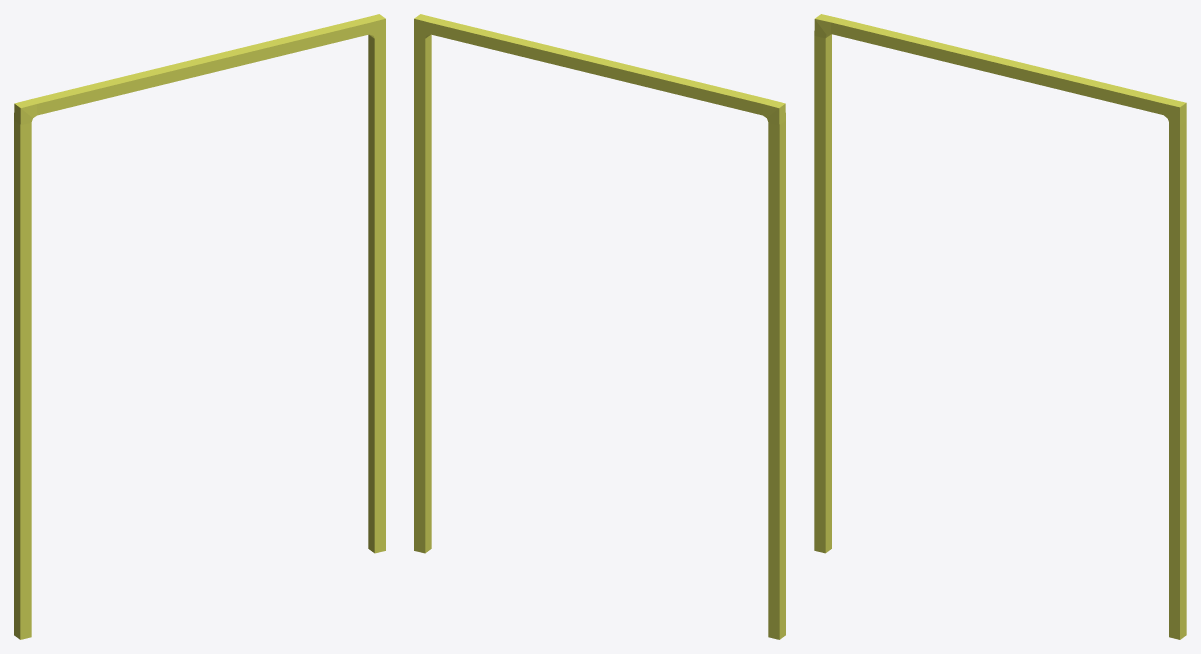
File: marco_puerta.fbx
3 views of the same model, side by side, from view 1: azimuth 30°, elevation 25°; view 2: azimuth 150°, elevation 25°; view 3: azimuth 330°, elevation 25° (orthographic).
Visible parts, largest first — view 1: plano_puerta.001; view 2: plano_puerta.001; view 3: plano_puerta.001.
Boxes of the visible parts, x1,y1,x2,y2 form: plano_puerta.001: [14, 14, 385, 639]; plano_puerta.001: [414, 14, 785, 639]; plano_puerta.001: [814, 14, 1186, 639].
Bounding box in the file's own units: 329 × 458 × 10.7.
